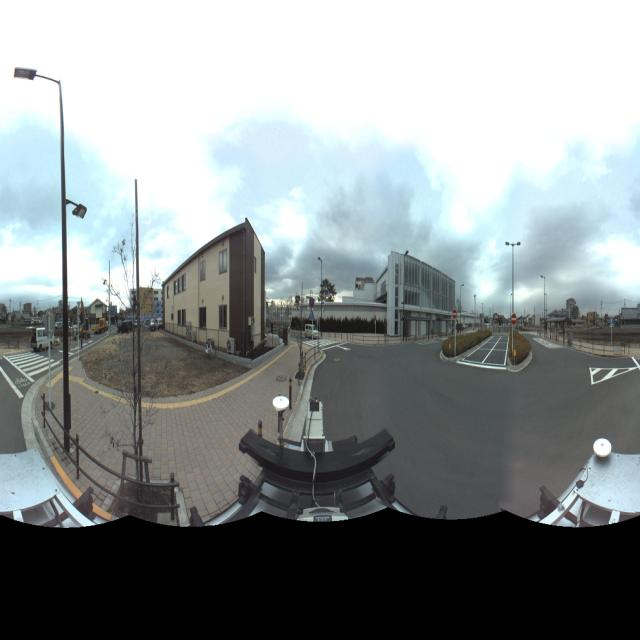b_1: (165, 220, 278, 362), (379, 238, 456, 343), (127, 274, 168, 325)
